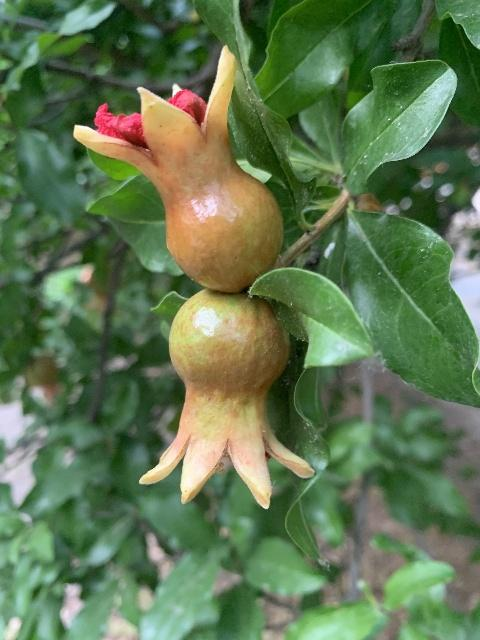early-fruit: (72, 46, 281, 296), (138, 289, 314, 510)
